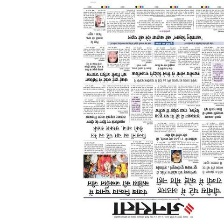news_paper: (81, 0, 224, 219)
